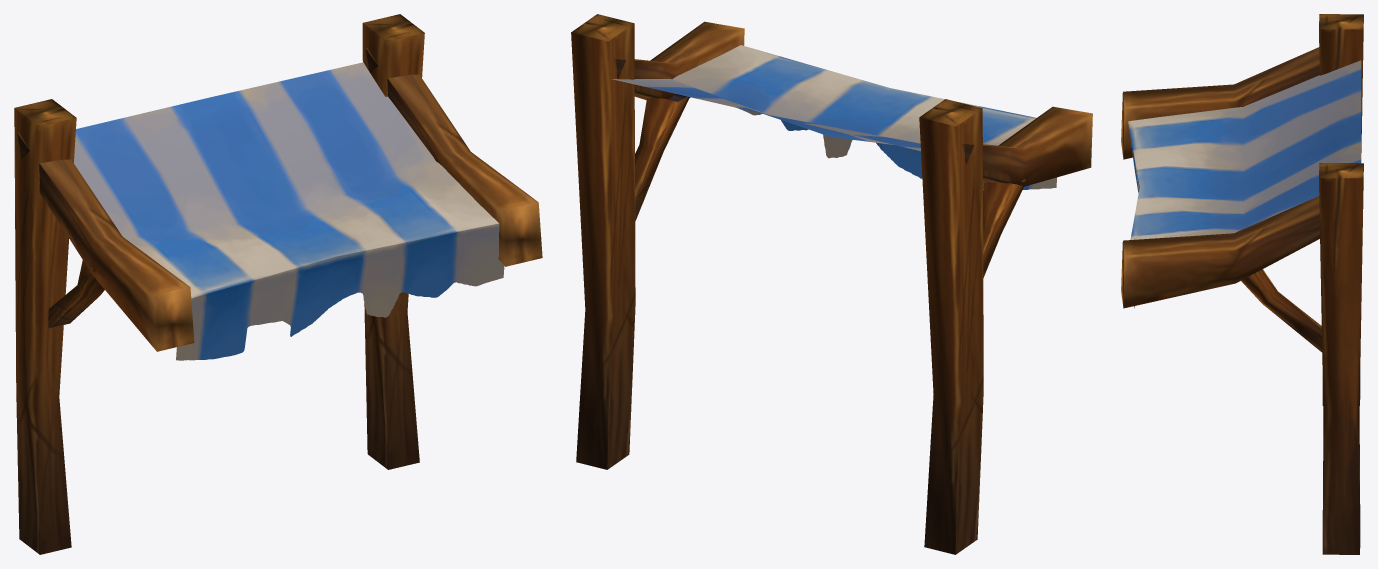
The model's file is roof_2.fbx.
The picture shows the model from 3 angles, left to right: view 1: azimuth 30°, elevation 25°; view 2: azimuth 150°, elevation 25°; view 3: azimuth 270°, elevation 25°; orthographic projection. The views are drawn at different scales.
Visible parts, largest first — view 1: roof_2; view 2: roof_2; view 3: roof_2.
Boxes of the visible parts, x1=… form: roof_2: x1=14, y1=14, x2=542, y2=554; roof_2: x1=571, y1=14, x2=1092, y2=554; roof_2: x1=1121, y1=14, x2=1363, y2=554.
Bounding box in the file's own units: 2.87 × 2.98 × 1.74.
